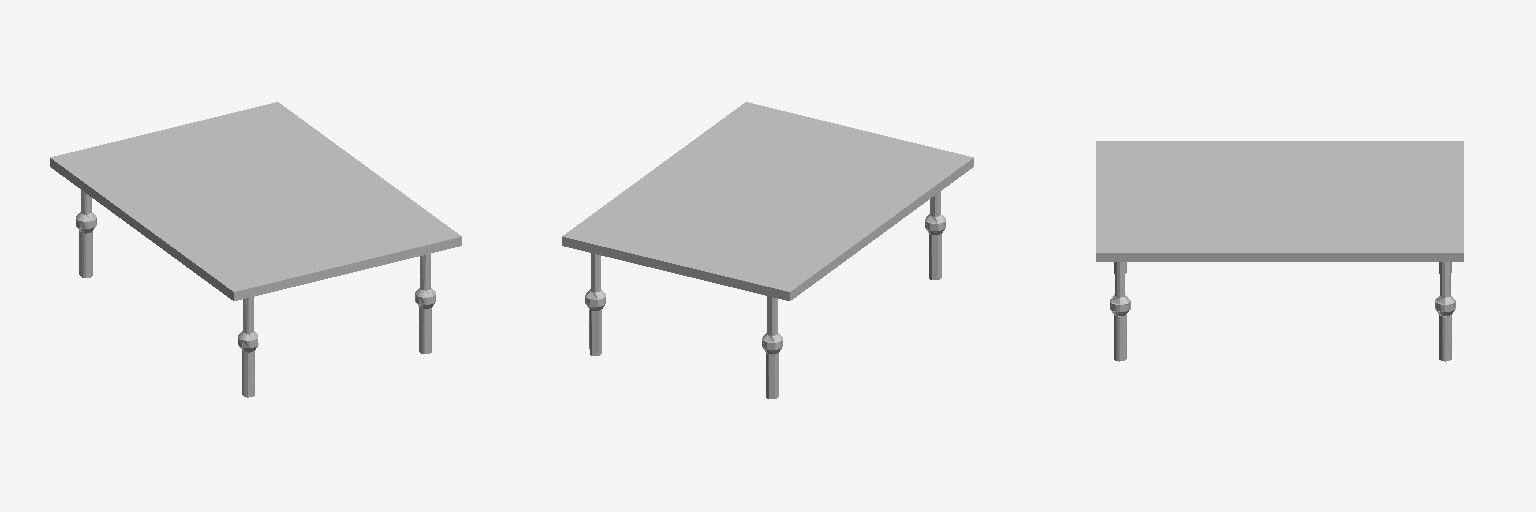
Rendered from Tables.obj.
3 renders of one model, left to right at view 1: azimuth 30°, elevation 25°; view 2: azimuth 150°, elevation 25°; view 3: azimuth 270°, elevation 25°, orthographic.
Visible parts, largest first — view 1: Cube_Cube.001, Cylinder.001, Cylinder.002, Cylinder.003; view 2: Cube_Cube.001, Cylinder.003, Cylinder, Cylinder.002; view 3: Cube_Cube.001, Cylinder, Cylinder.001.
Part boxes in pixels (left/top/right/bottom): Cube_Cube.001: left=50, top=102, right=461, bottom=300; Cylinder.001: left=415, top=254, right=435, bottom=353; Cylinder.002: left=238, top=297, right=258, bottom=397; Cylinder.003: left=76, top=190, right=96, bottom=277; Cube_Cube.001: left=562, top=102, right=973, bottom=300; Cylinder.003: left=762, top=296, right=782, bottom=398; Cylinder: left=585, top=253, right=605, bottom=355; Cylinder.002: left=925, top=191, right=945, bottom=279; Cube_Cube.001: left=1096, top=141, right=1463, bottom=261; Cylinder: left=1435, top=262, right=1455, bottom=361; Cylinder.001: left=1110, top=262, right=1130, bottom=361.
Size of the model in its own units: 0.9271 by 0.4578 by 1.3.